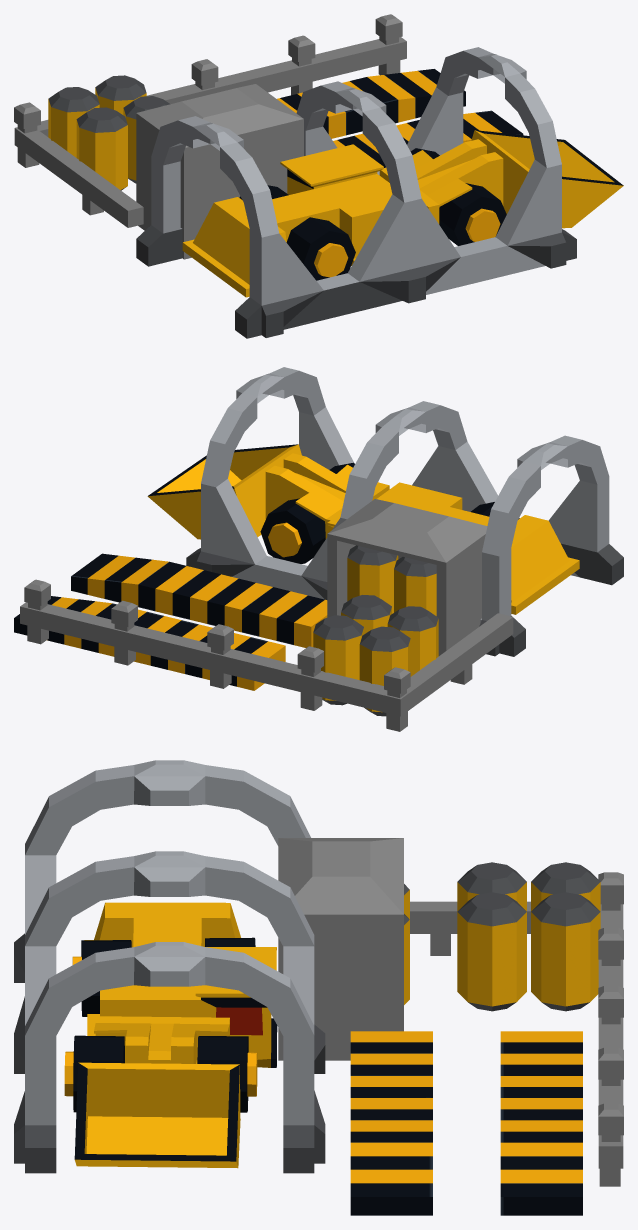
The model's file is ChargingStation.fbx.
3 renders of one model, top to bottom at view 1: azimuth 30°, elevation 25°; view 2: azimuth 150°, elevation 25°; view 3: azimuth 270°, elevation 25°, orthographic. The views are drawn at different scales.
Visible parts, largest first — view 1: base, glow.008; view 2: base, glow.008; view 3: base, glow.008.
Part boxes in pixels (x1,y1,x2,y2): base: (14, 36, 623, 338); glow.008: (14, 14, 526, 150); base: (14, 367, 623, 731); glow.008: (24, 373, 567, 693); base: (14, 765, 623, 1215); glow.008: (134, 760, 623, 1135).
Size of the model in its own units: 396 by 154 by 395.
